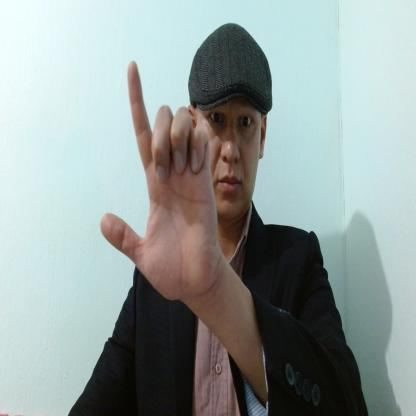L: (101, 61, 218, 304)
